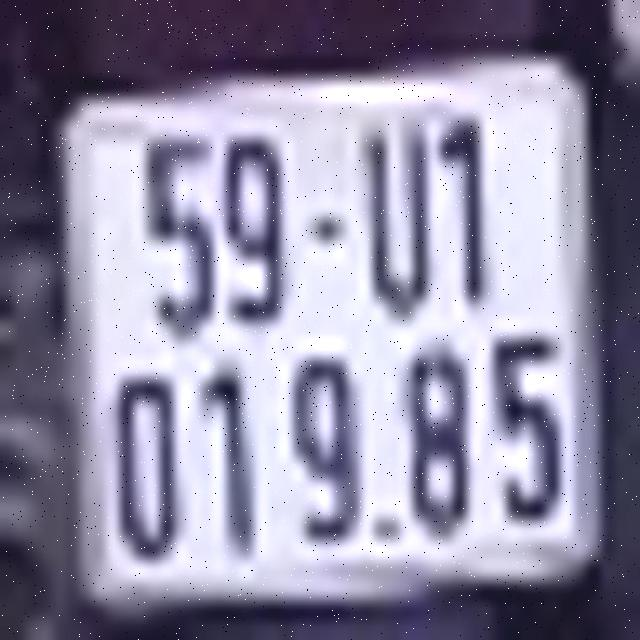0: (116, 375, 179, 562)
1: (200, 370, 258, 557), (438, 119, 488, 308)
5: (492, 331, 567, 527), (145, 134, 217, 338)
8: (408, 344, 472, 538)
9: (289, 354, 360, 543), (223, 134, 284, 326)
U: (365, 126, 432, 318)
